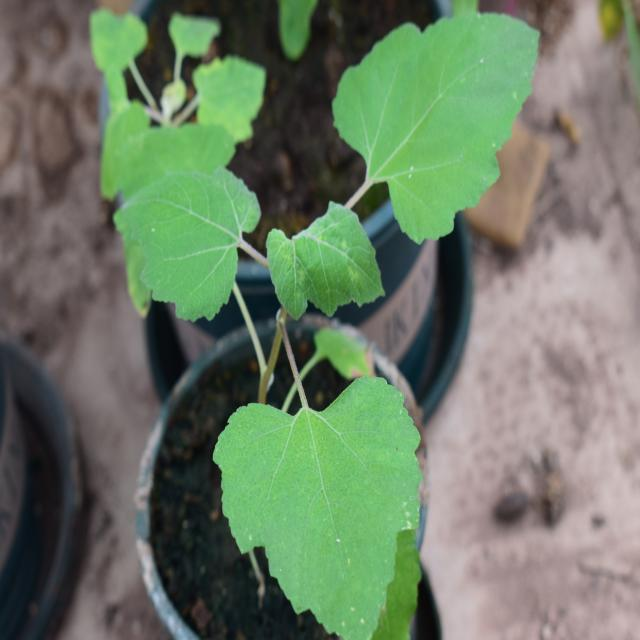cocklebur: (130, 0, 515, 577)
